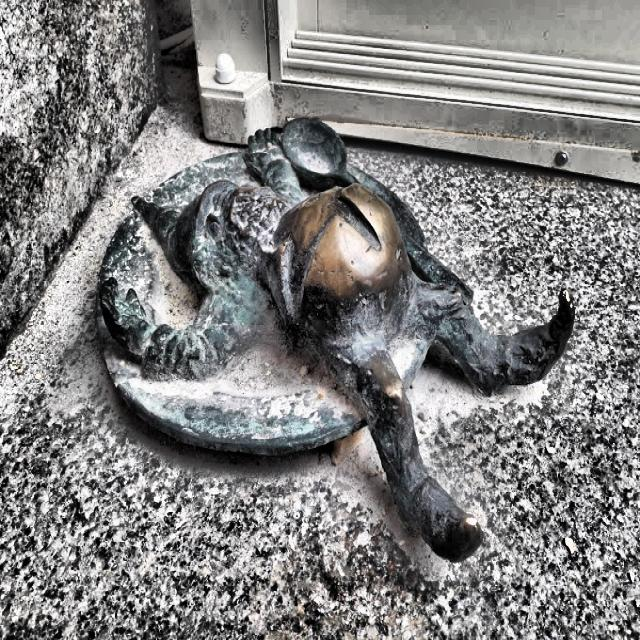Obiezysmak: (98, 119, 575, 565)
